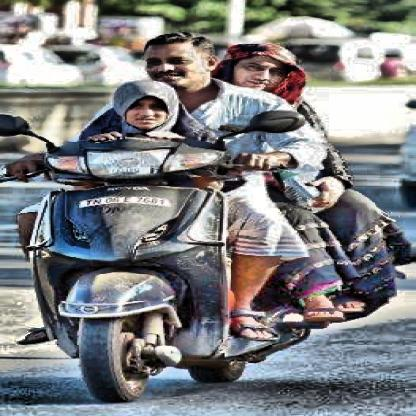not_wear: (104, 82, 178, 134), (151, 36, 212, 98), (228, 48, 291, 95)
